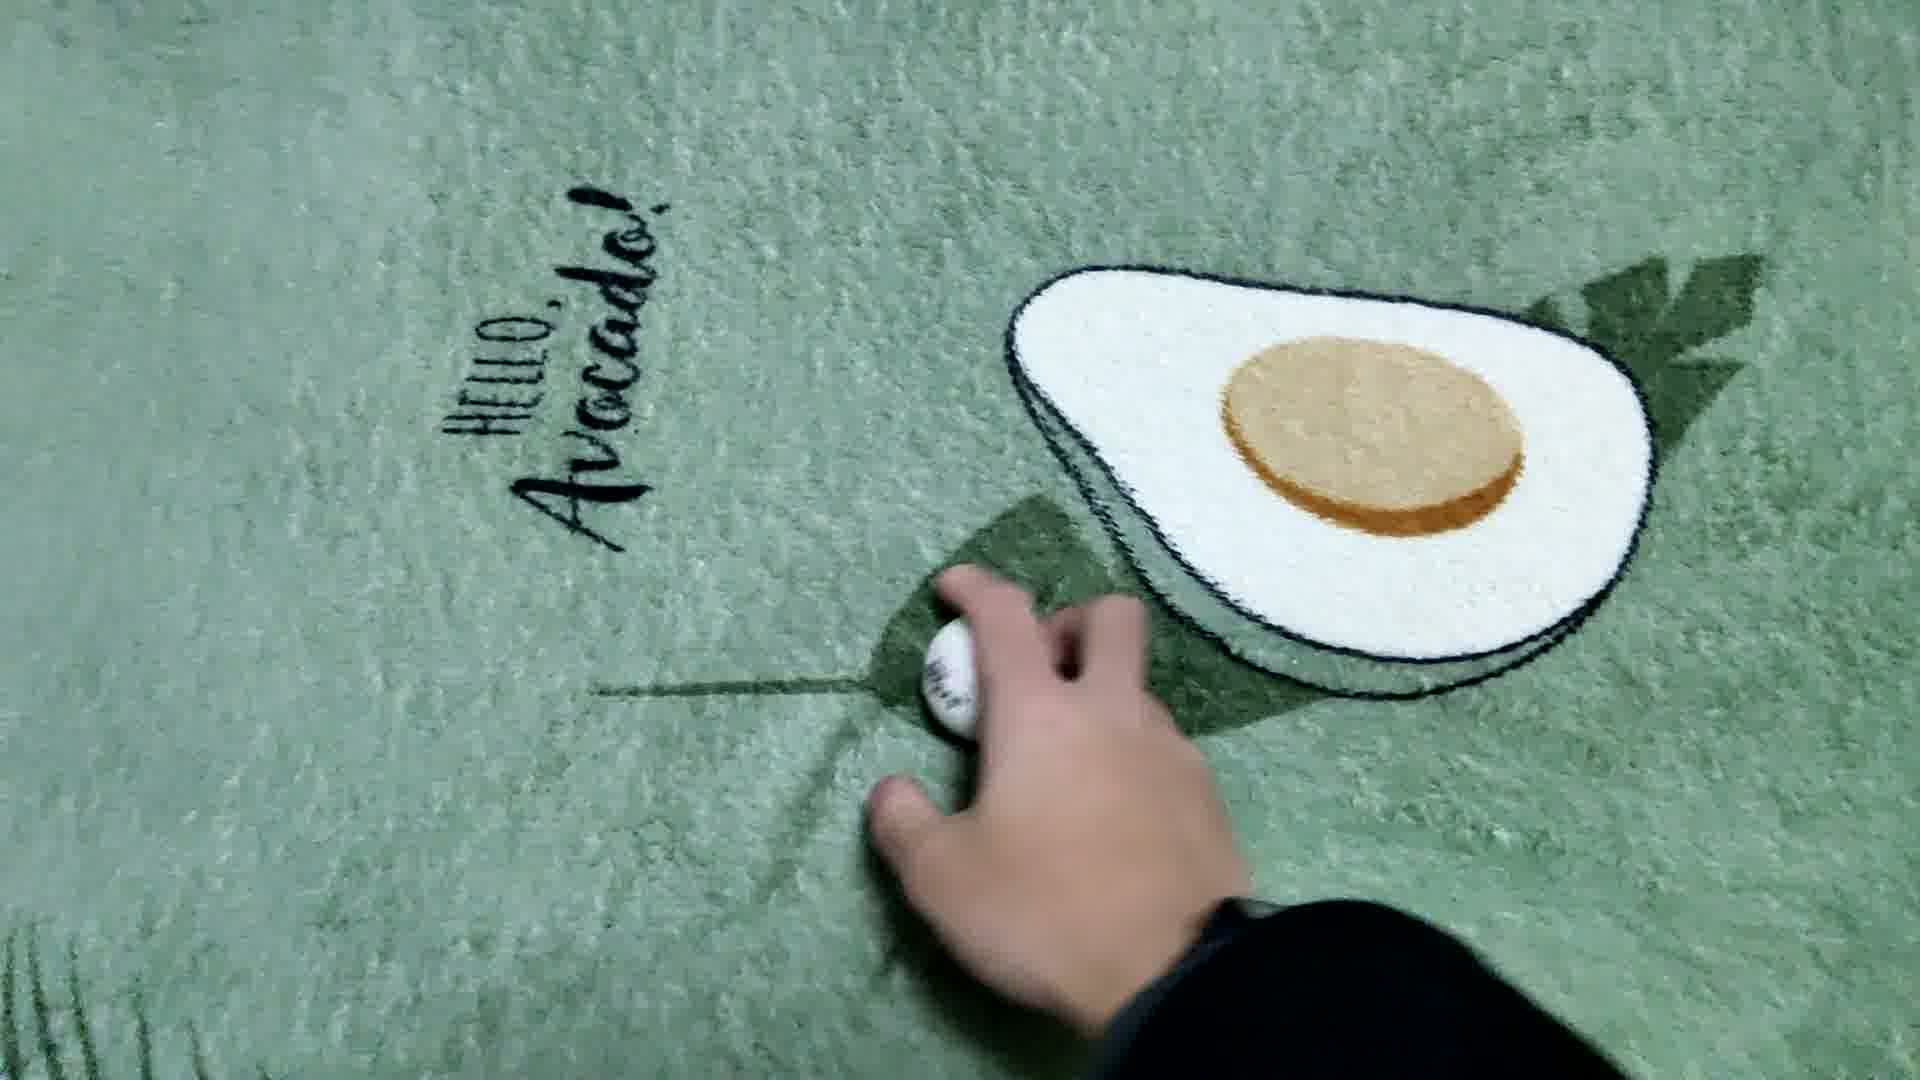Ball: (920, 611, 1054, 742)
